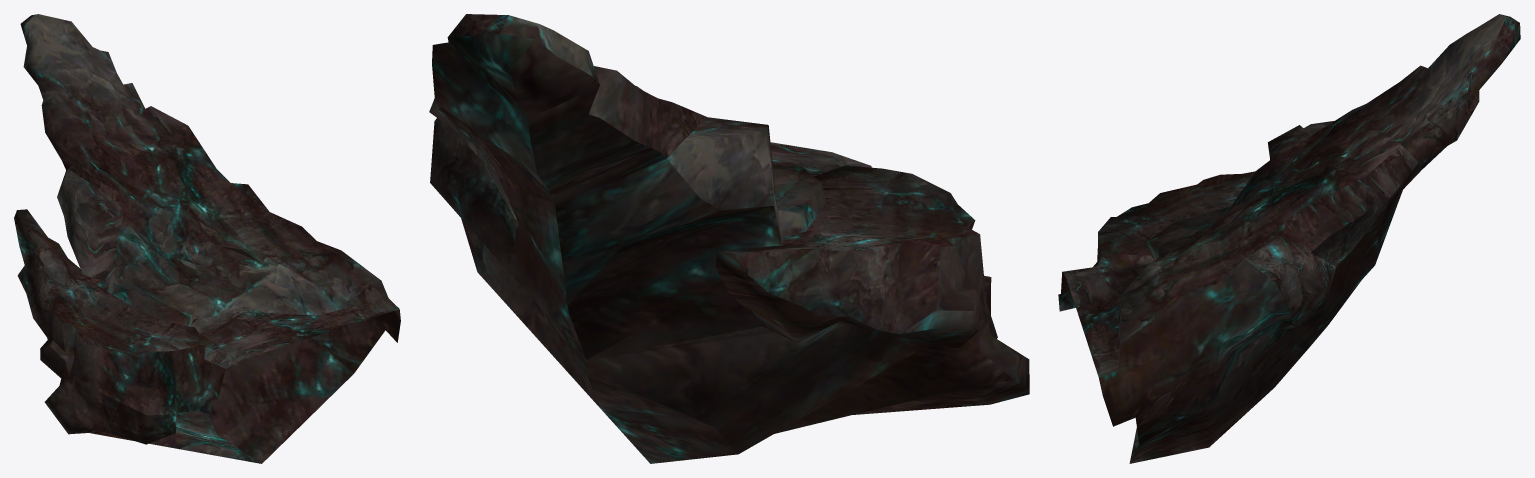
File: S_Rock_Black087.FBX
3 renders of one model, left to right at view 1: azimuth 30°, elevation 25°; view 2: azimuth 150°, elevation 25°; view 3: azimuth 270°, elevation 25°, orthographic. The views are drawn at different scales.
Visible parts, largest first — view 1: S_Rock_Black087; view 2: S_Rock_Black087; view 3: S_Rock_Black087.
Boxes of the visible parts, left/top/right/bottom form: S_Rock_Black087: left=14, top=14, right=400, bottom=463; S_Rock_Black087: left=429, top=14, right=1029, bottom=463; S_Rock_Black087: left=1058, top=14, right=1520, bottom=463.
Size of the model in its own units: 259 by 269 by 263.
